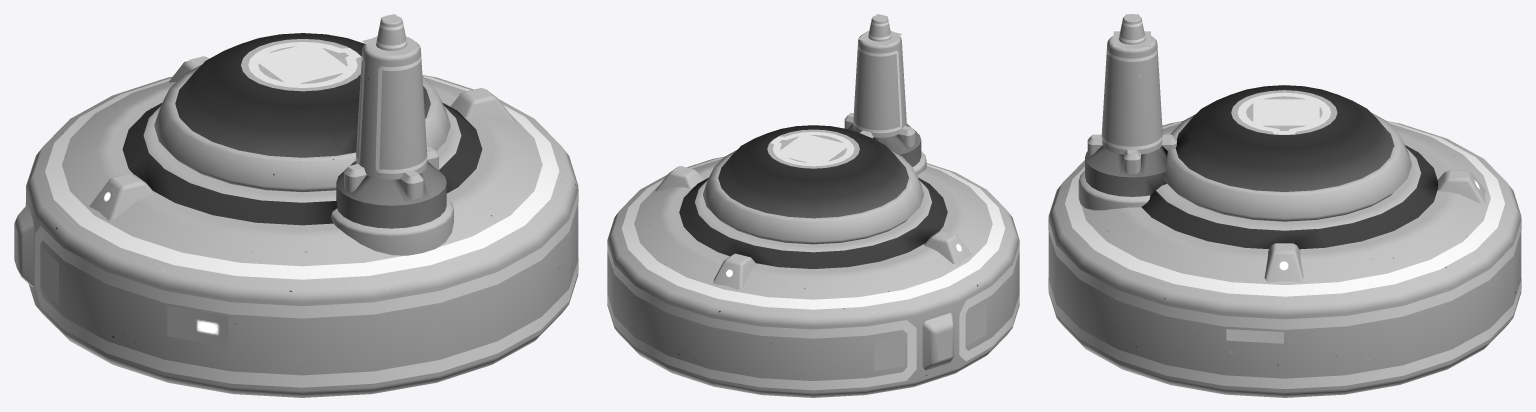
The model's file is SM_Construction_6_Merged.fbx.
3 views of the same model, side by side, from view 1: azimuth 30°, elevation 25°; view 2: azimuth 150°, elevation 25°; view 3: azimuth 270°, elevation 25° (orthographic). The views are drawn at different scales.
Visible parts, largest first — view 1: SM_Construction_6_Merged_LOD0; view 2: SM_Construction_6_Merged_LOD0; view 3: SM_Construction_6_Merged_LOD0.
Part boxes in pixels (bbox=[...]): SM_Construction_6_Merged_LOD0: bbox=[14, 14, 578, 397]; SM_Construction_6_Merged_LOD0: bbox=[607, 14, 1019, 397]; SM_Construction_6_Merged_LOD0: bbox=[1048, 14, 1521, 397].
Size of the model in its own units: 214 by 214 by 155.
